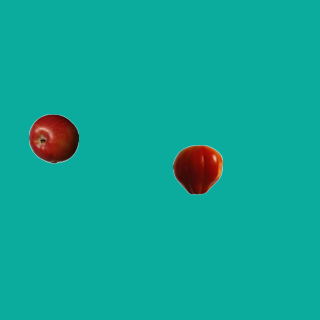Apple Braeburn: (28, 113, 78, 163)
Tomato 1: (172, 144, 222, 194)
